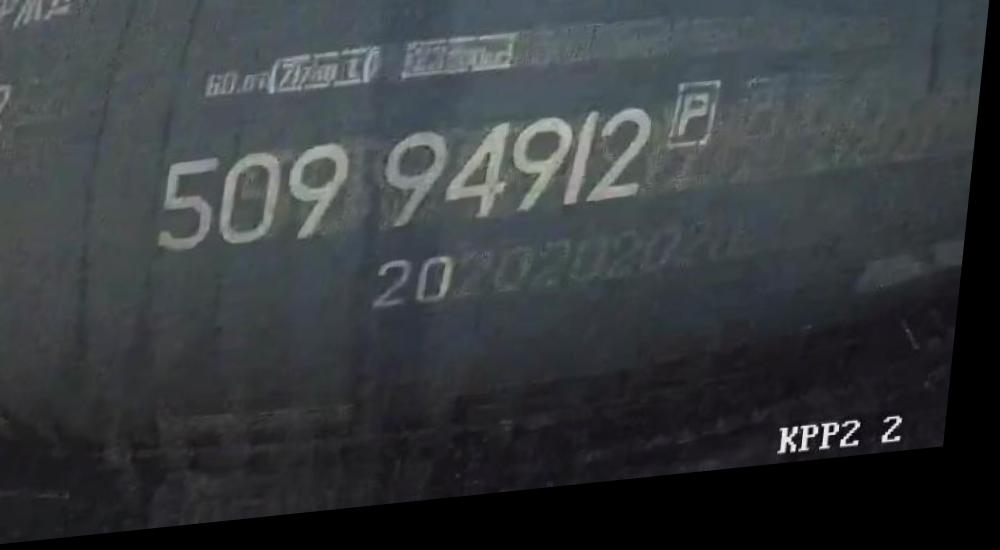Wagon-number: (153, 110, 662, 260)
